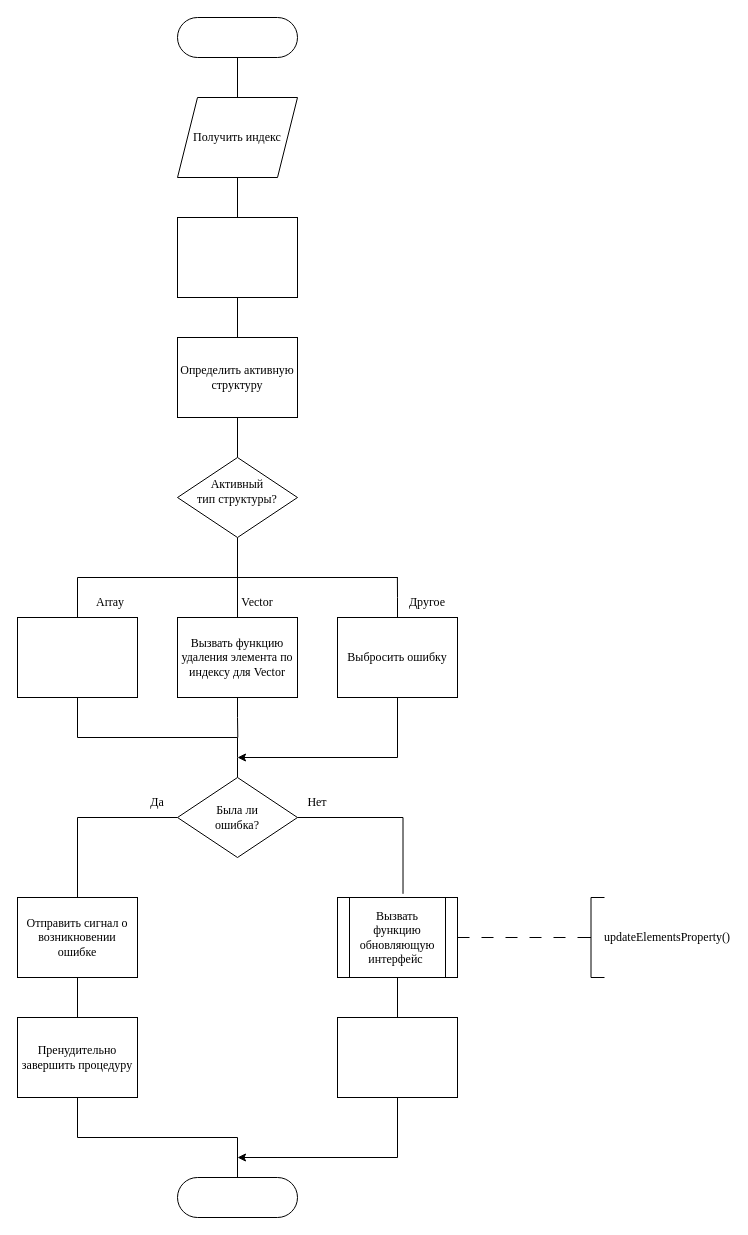
Some shapes in this 748 by 1235 pixel diagram are drawn without their labels. The shapes that lost their labels are listed below. From the top down, each one's centre as x and y in pixels, then its label:
At point (237, 37): "Начало".
At point (237, 257): "Блок обработки ошибок".
At point (77, 657): "Вызвать функцию удаления элемента по индексу для Array".
At point (397, 1057): "Отправить сигналы об изменении элементов и их количества".
At point (237, 1197): "Конец".
